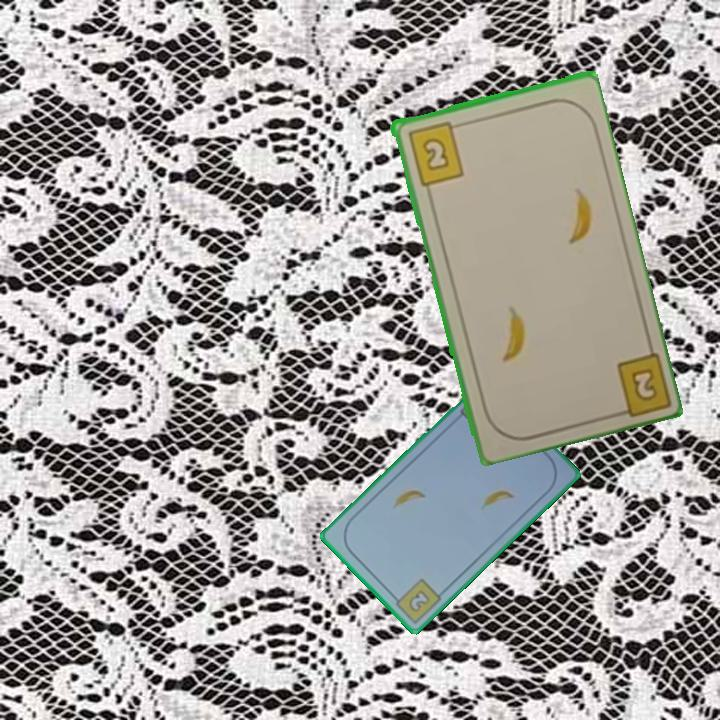2b: (606, 347, 671, 420), (403, 118, 467, 188), (388, 575, 445, 626)
